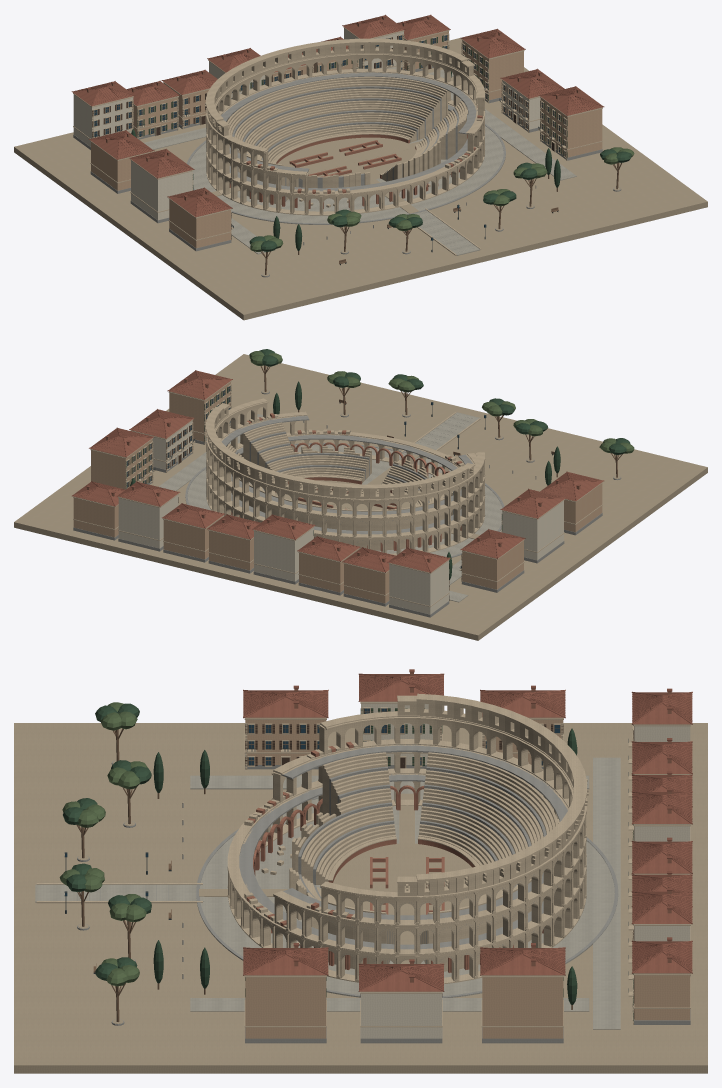
Rendered from IT_Rome.fbx.
The picture shows the model from 3 angles, top to bottom: view 1: azimuth 30°, elevation 25°; view 2: azimuth 150°, elevation 25°; view 3: azimuth 270°, elevation 25°; orthographic projection. The views are drawn at different scales.
Visible parts, largest first — view 1: IT_Rome_Ground, Colosseum_Seating, Street_Facades, Street_Roofs, Colosseum_Cornices, Piazza_Paving, Street_Trim, Colosseum_Arches, Street_RoofDetails, Colosseum_Arena, Colosseum_Piers, Vegetation_Canopy (+7 smaller); view 2: IT_Rome_Ground, Street_Facades, Street_Roofs, Colosseum_Cornices, Colosseum_Seating, Street_RoofDetails, Colosseum_Arches, Street_Trim, Piazza_Paving, Colosseum_Piers, Vegetation_Canopy, Colosseum_Attic (+7 smaller); view 3: IT_Rome_Ground, Street_Roofs, Piazza_Paving, Street_Facades, Colosseum_Cornices, Colosseum_Seating, Street_RoofDetails, Colosseum_Arches, Colosseum_Piers, Vegetation_Canopy, Street_Trim, Colosseum_Attic (+9 smaller).
Boxes of the visible parts, x1,y1,x2,y2 form: IT_Rome_Ground: (14,38,707,320); Colosseum_Seating: (227,76,466,204); Street_Facades: (73,28,602,248); Street_Roofs: (72,15,602,216); Colosseum_Cornices: (206,38,484,215); Piazza_Paving: (144,69,576,255); Street_Trim: (73,27,602,251); Colosseum_Arches: (207,56,483,214); Street_RoofDetails: (71,14,604,217); Colosseum_Arena: (273,132,419,178); Colosseum_Piers: (206,55,485,215); Vegetation_Canopy: (131,71,634,251); IT_Rome_Ground: (14,354,707,640); Street_Facades: (73,382,602,614); Street_Roofs: (73,370,603,572); Colosseum_Cornices: (206,398,484,555); Colosseum_Seating: (227,422,461,550); Street_RoofDetails: (72,370,604,572); Colosseum_Arches: (207,405,483,554); Street_Trim: (73,380,602,617); Piazza_Paving: (158,412,502,602); Colosseum_Piers: (206,406,485,553); Vegetation_Canopy: (130,349,634,579); Colosseum_Attic: (205,407,473,498); IT_Rome_Ground: (14,723,707,1073); Street_Roofs: (243,674,692,991); Piazza_Paving: (35,757,620,1029); Street_Facades: (245,702,690,1038); Colosseum_Cornices: (227,693,586,983); Colosseum_Seating: (289,752,558,971); Street_RoofDetails: (243,669,692,991); Colosseum_Arches: (230,721,584,981); Colosseum_Piers: (227,719,586,981); Vegetation_Canopy: (59,702,577,1004); Street_Trim: (244,701,690,1043); Colosseum_Attic: (397,700,588,896).
Size of the model in its own units: 140 by 22.07 by 120.
Materials: 15 (15 with a texture image).
